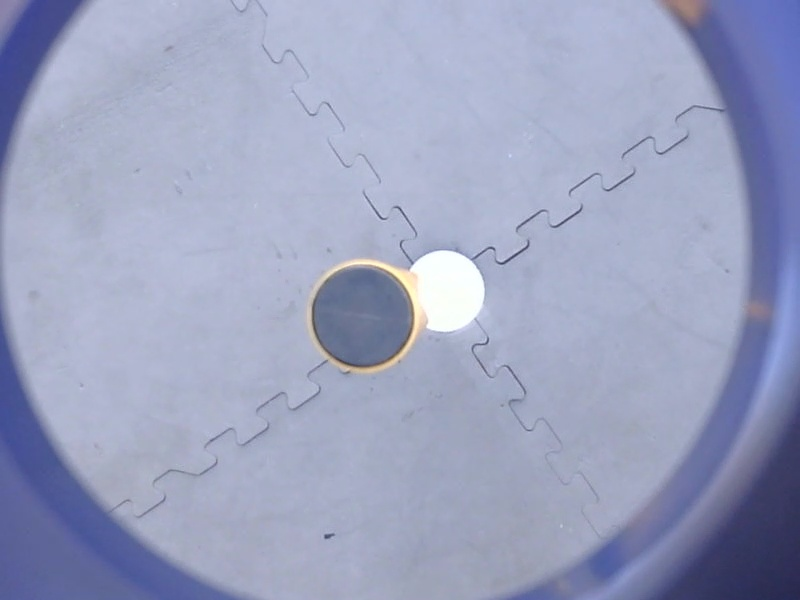tip: (301, 255, 423, 378)
